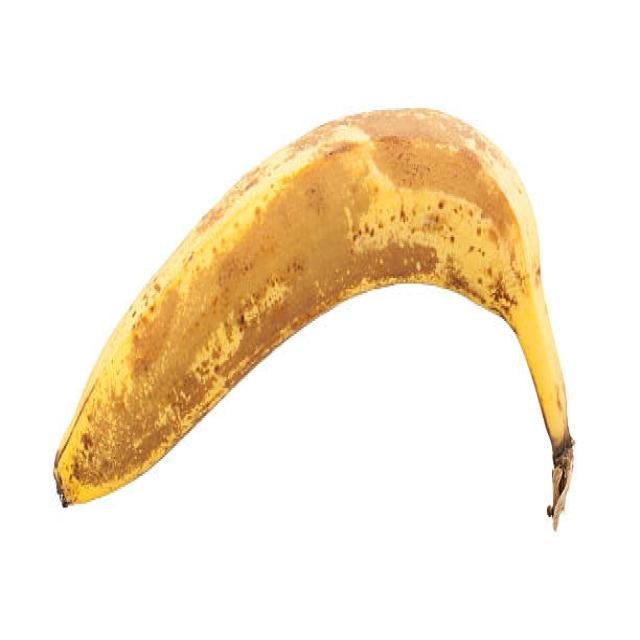overripe: (47, 99, 576, 511)
